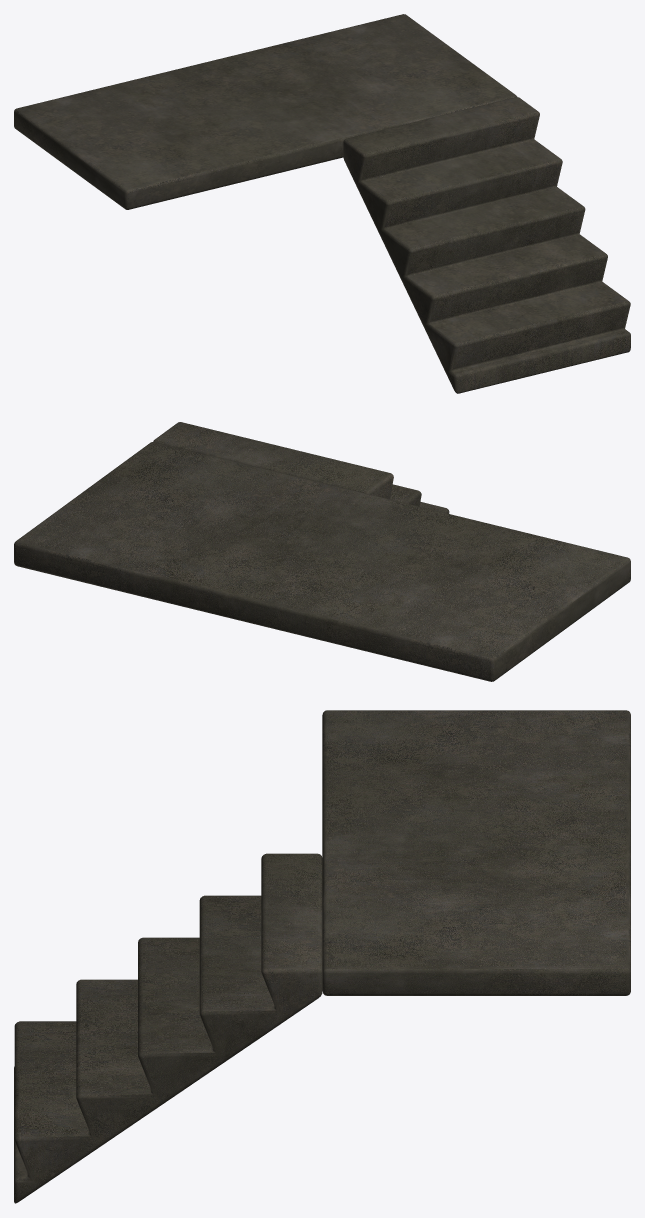
Rendered from stairs_1.glb.
3 views of the same model, one above another, from view 1: azimuth 30°, elevation 25°; view 2: azimuth 150°, elevation 25°; view 3: azimuth 270°, elevation 25° (orthographic). The views are drawn at different scales.
Parts seen in each view (by area): view 1: stairs_1; view 2: stairs_1; view 3: stairs_1.
Boxes of the visible parts, x1=… form: stairs_1: x1=14, y1=14, x2=630, y2=393; stairs_1: x1=14, y1=422, x2=630, y2=681; stairs_1: x1=14, y1=710, x2=630, y2=1203.
Size of the model in its own units: 4 by 1.69 by 4.
1 material, 1 textured.
